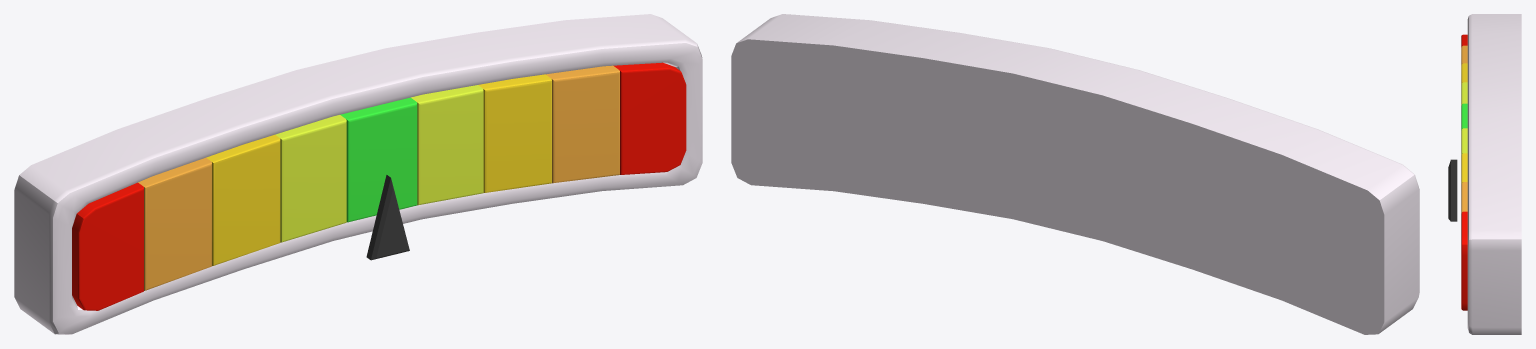
Rendered from meter.fbx.
3 renders of one model, left to right at view 1: azimuth 30°, elevation 25°; view 2: azimuth 150°, elevation 25°; view 3: azimuth 270°, elevation 25°, orthographic. The views are drawn at different scales.
Parts seen in each view (by area): view 1: bar, colors, colors2, colors1, colors6, colors7, colors4, colors3, colors5, colors8, pin; view 2: bar; view 3: bar, colors8, pin, colors7, colors6, colors5, colors4, colors3, colors2, colors1, colors.
Boxes of the visible parts, box(x1,y1,x2,y2) form: bar: box(14, 14, 702, 334); colors: box(72, 182, 143, 310); colors2: box(206, 134, 280, 265); colors1: box(138, 157, 211, 290); colors6: box(478, 74, 551, 192); colors7: box(546, 65, 619, 183); colors4: box(340, 97, 417, 222); colors3: box(275, 115, 346, 242); colors5: box(411, 85, 483, 205); colors8: box(613, 62, 686, 174); pin: box(366, 175, 409, 260); bar: box(731, 14, 1419, 334); bar: box(1467, 14, 1521, 334); colors8: box(1461, 211, 1467, 310); pin: box(1448, 159, 1457, 221); colors7: box(1461, 182, 1467, 213); colors6: box(1461, 153, 1467, 184); colors5: box(1461, 128, 1467, 155); colors4: box(1461, 103, 1467, 130); colors3: box(1461, 82, 1467, 105); colors2: box(1461, 63, 1467, 84); colors1: box(1461, 45, 1467, 65); colors: box(1461, 34, 1467, 47).
Size of the model in its own units: 4.69 by 1.21 by 0.6397.
Materials: 2 (2 with a texture image).
